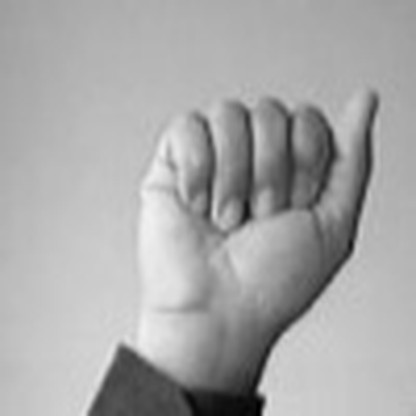a: (121, 59, 384, 315)
